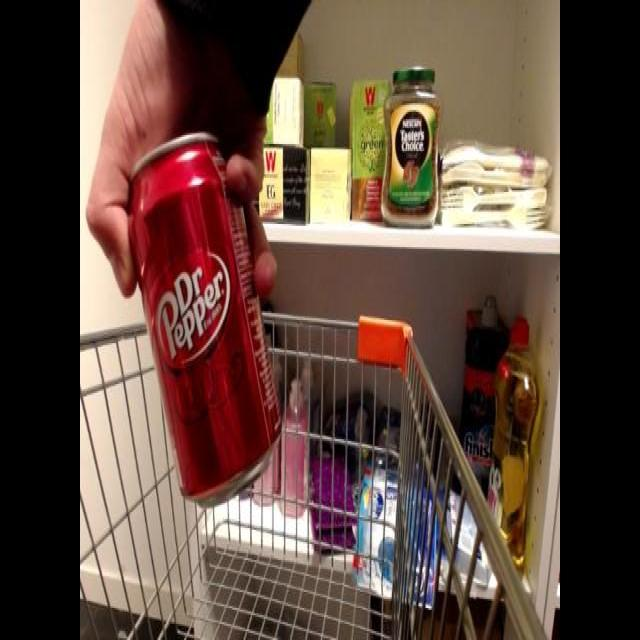Dr Pepper: (120, 118, 286, 511)
